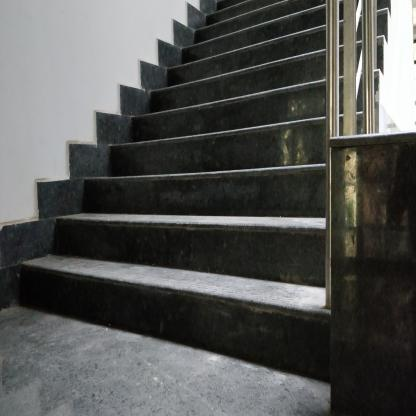stairs: (165, 52, 326, 395)
